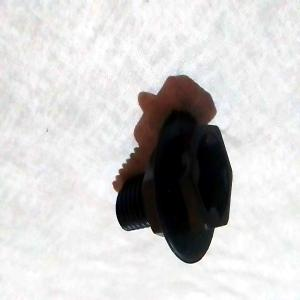parafuso: (116, 107, 233, 265)
